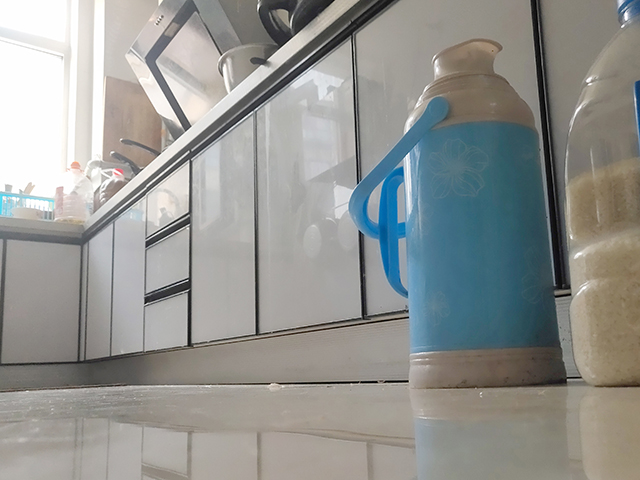cabinet: (79, 18, 369, 385)
carpet: (1, 380, 129, 393)
